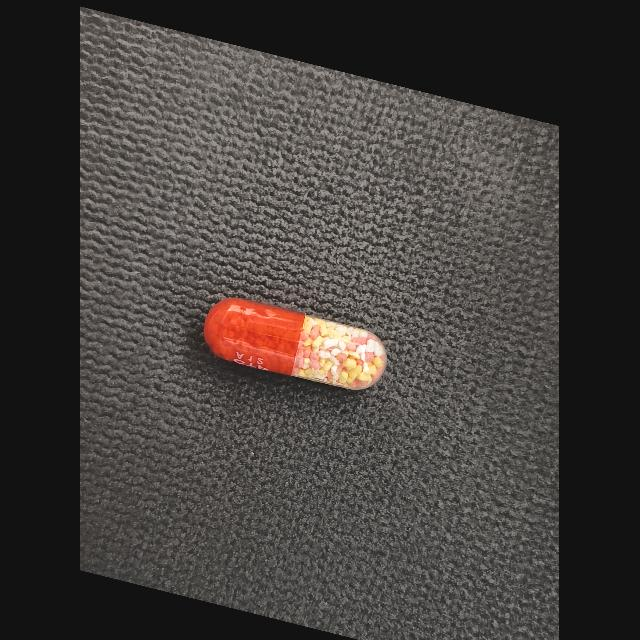Intact Capsule: (204, 298, 387, 390)
